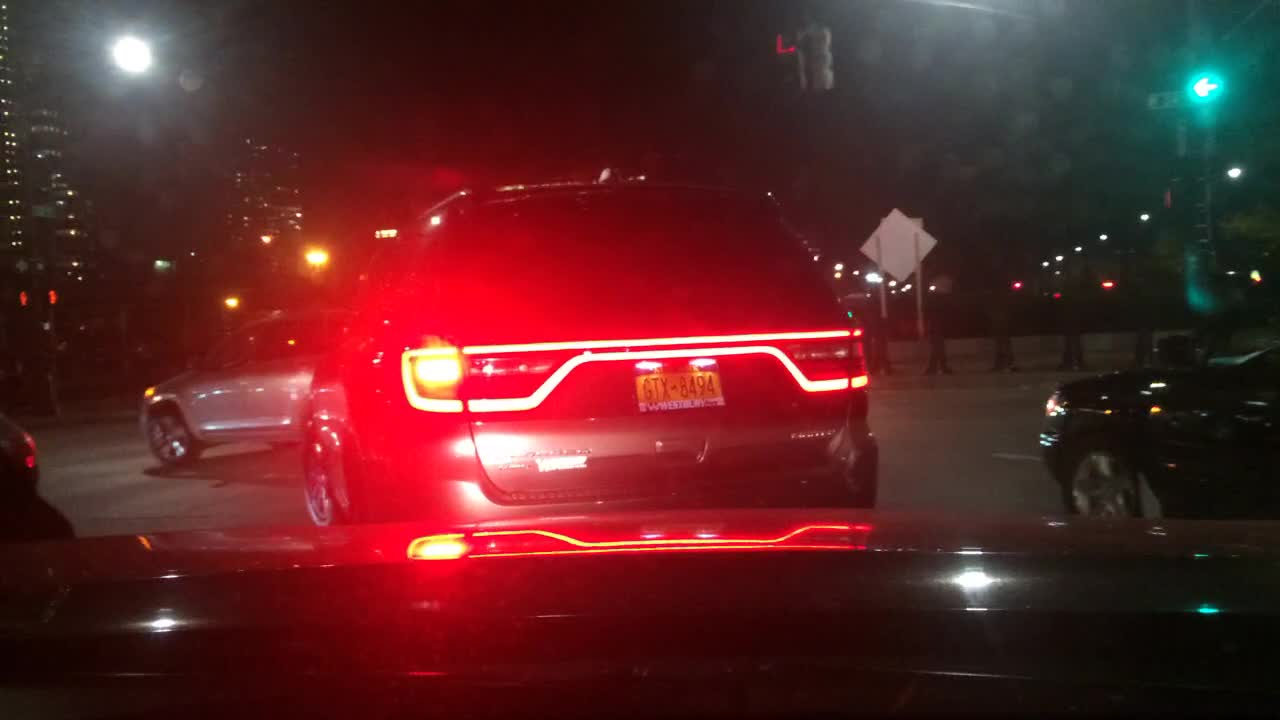car: (290, 155, 880, 522), (1035, 296, 1278, 524), (137, 305, 340, 480), (0, 411, 78, 547)
traffic light: (1190, 29, 1221, 102), (774, 29, 807, 97), (809, 23, 835, 94), (1160, 180, 1186, 210), (42, 288, 57, 308), (17, 289, 33, 306)
traffic sign: (860, 207, 938, 286), (1146, 89, 1202, 107)
